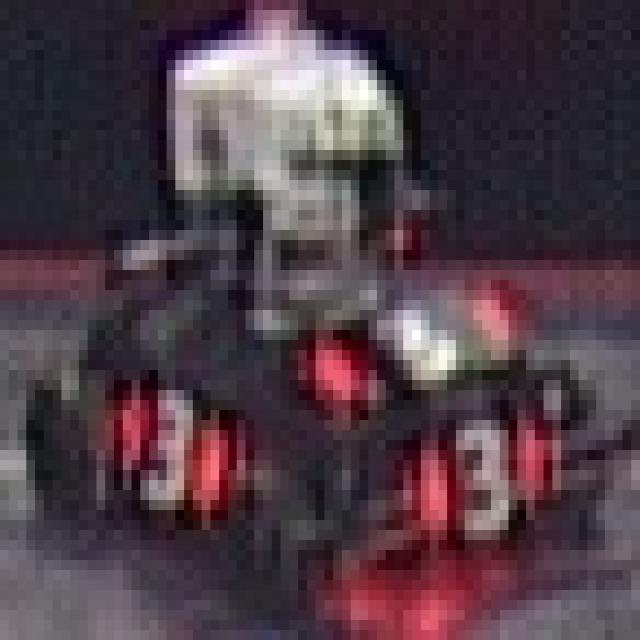R3: (307, 280, 508, 410), (88, 370, 236, 530), (403, 420, 552, 540)
